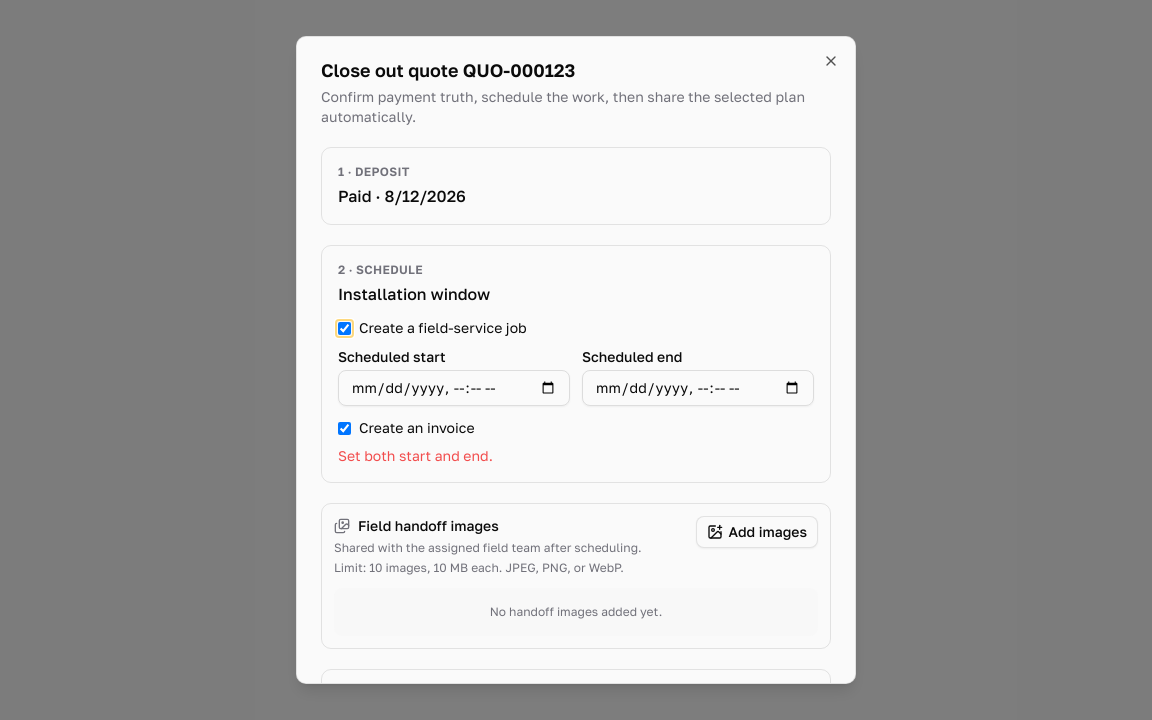
ConvertQuoteDialog guided closeout › submits crew, technicians, schedule, and reports authoritative delivery
Expected: the heading "Paid · 8/12/2026" is shown, [338, 186, 466, 206]
Type "2026-12-01T09:00" into the field labelled "Scheduled start" at (454, 388), box [338, 370, 570, 406]
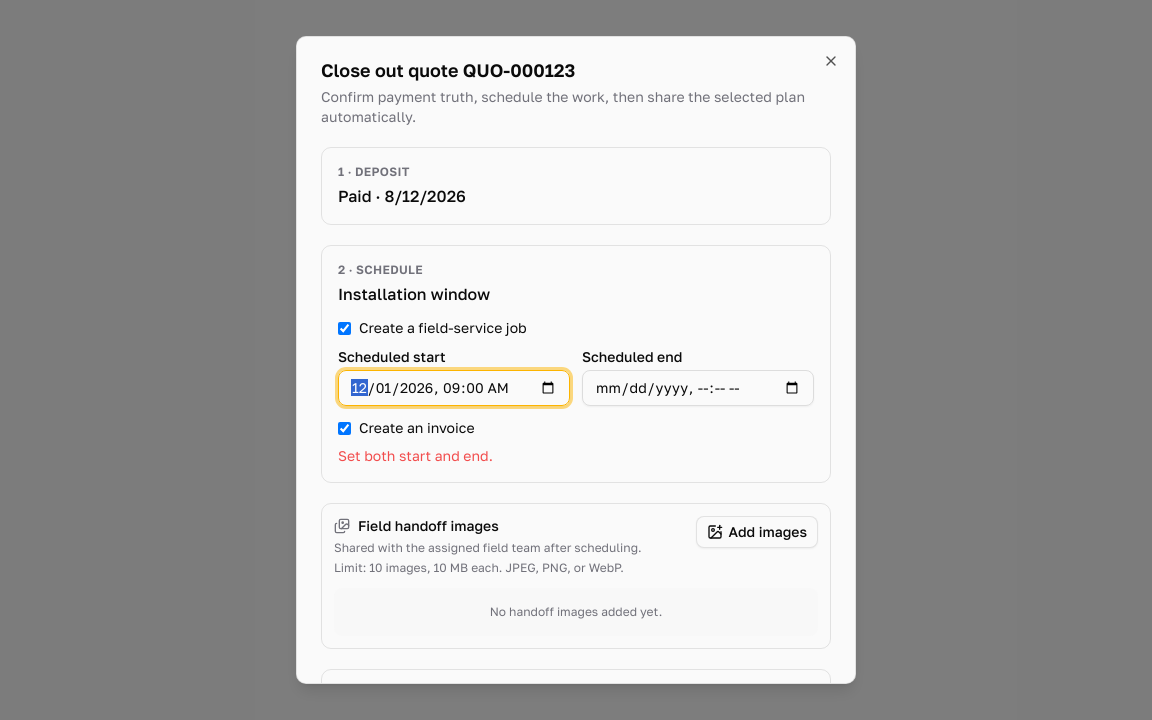
Type "2026-12-01T12:00" into the field labelled "Scheduled end" at (698, 388), box [582, 370, 814, 406]
(page scrolled)
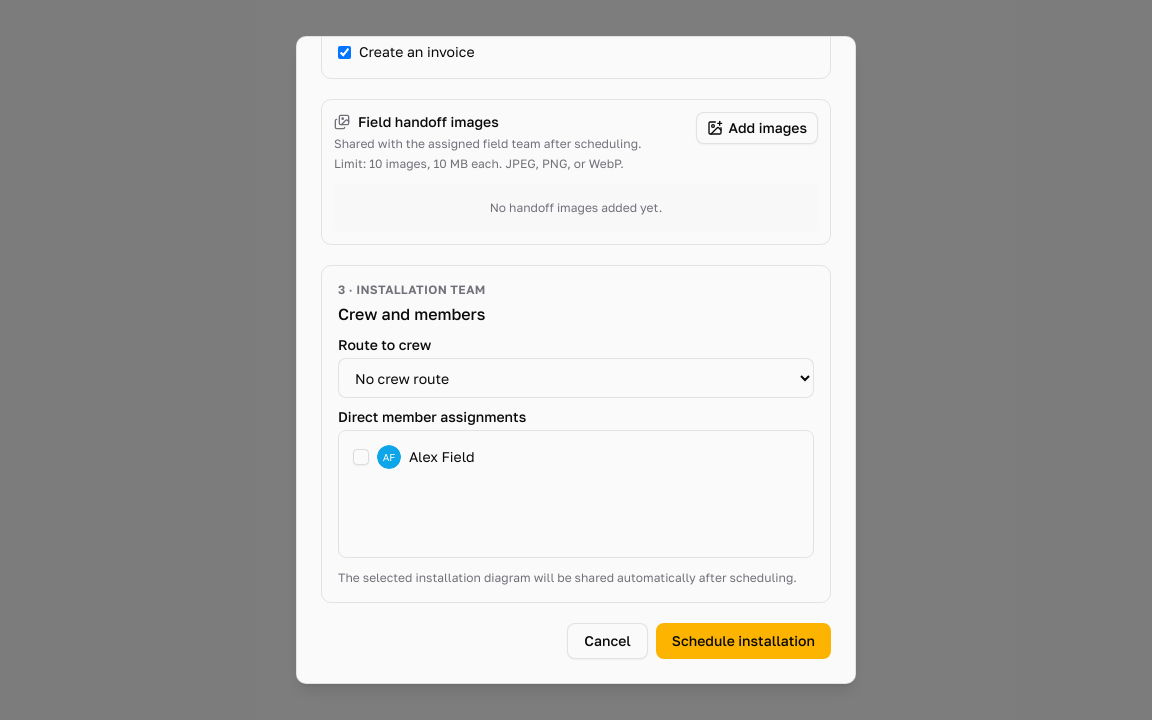
Select "Install Crew · technicians" in the dropdown labelled "Route to crew" at (576, 378), box [338, 358, 814, 398]
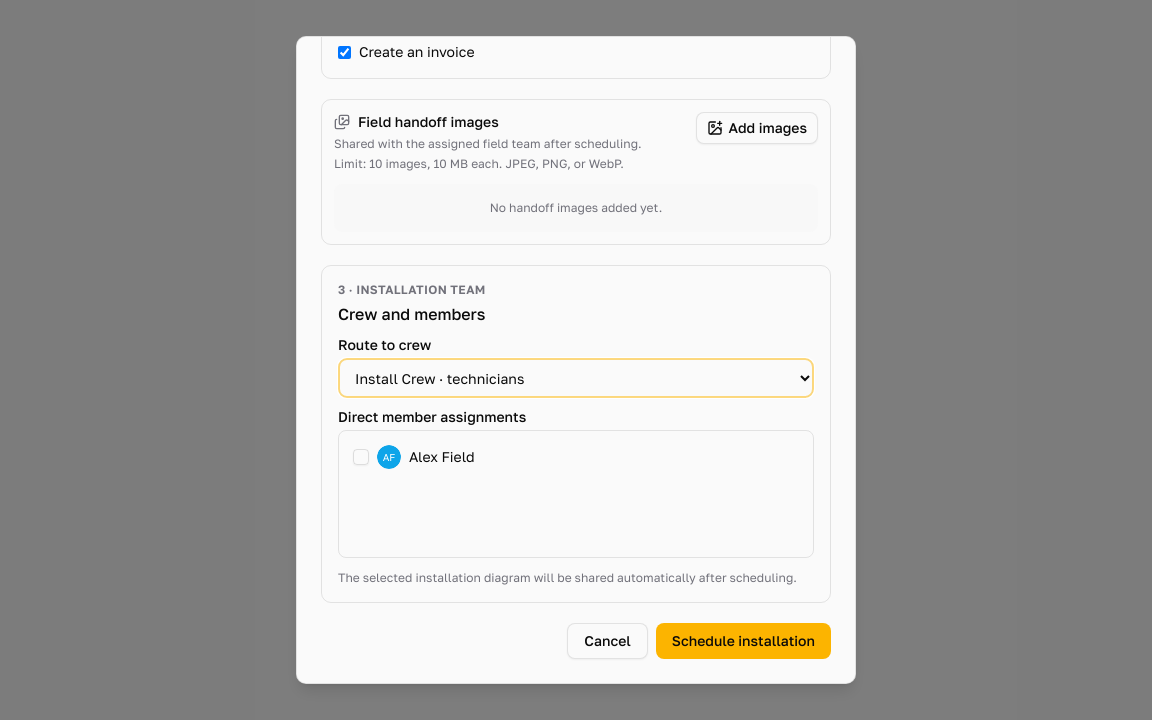
Click the text "Alex Field" at (442, 457), box [409, 447, 475, 467]
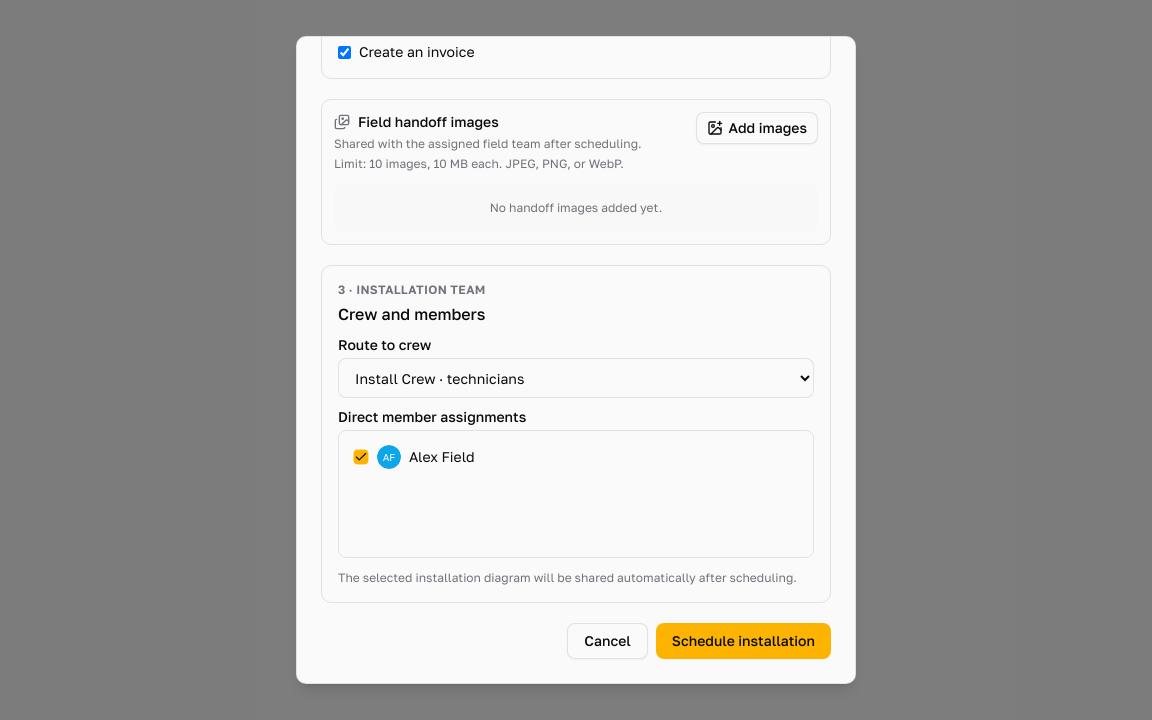
Click the button "Schedule installation" at (743, 641), box [656, 623, 831, 659]
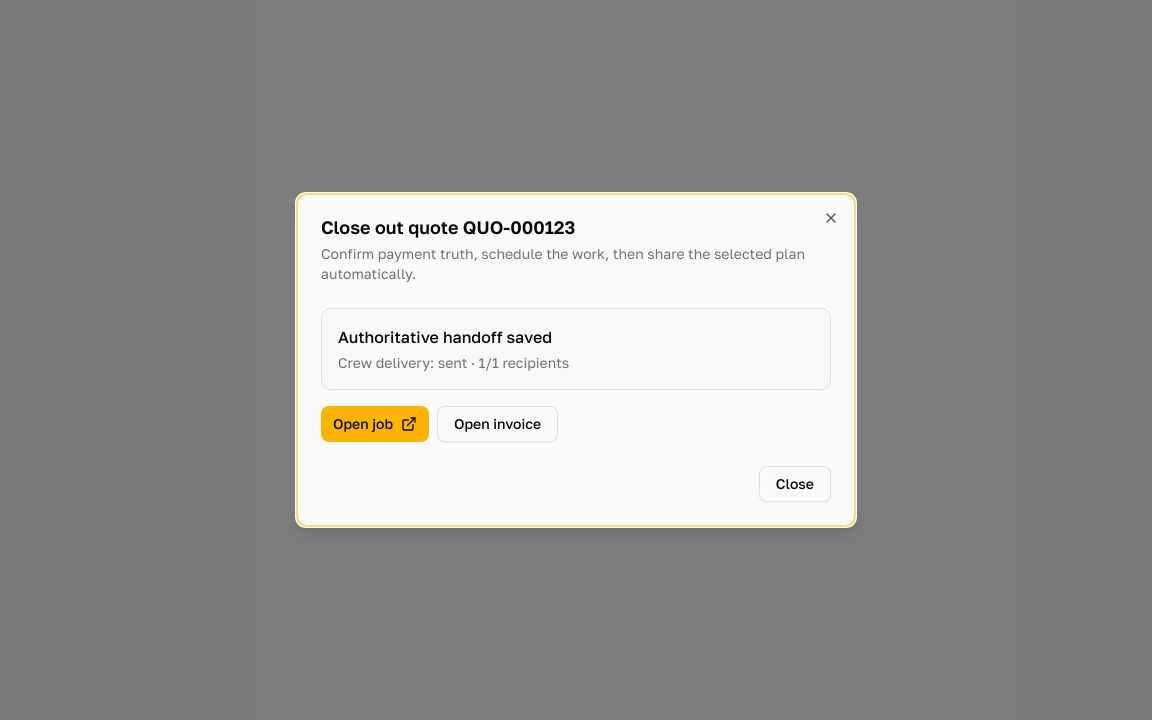
Now the text "Crew delivery: sent · 1/1 recipients" is shown, box [338, 354, 569, 371]
